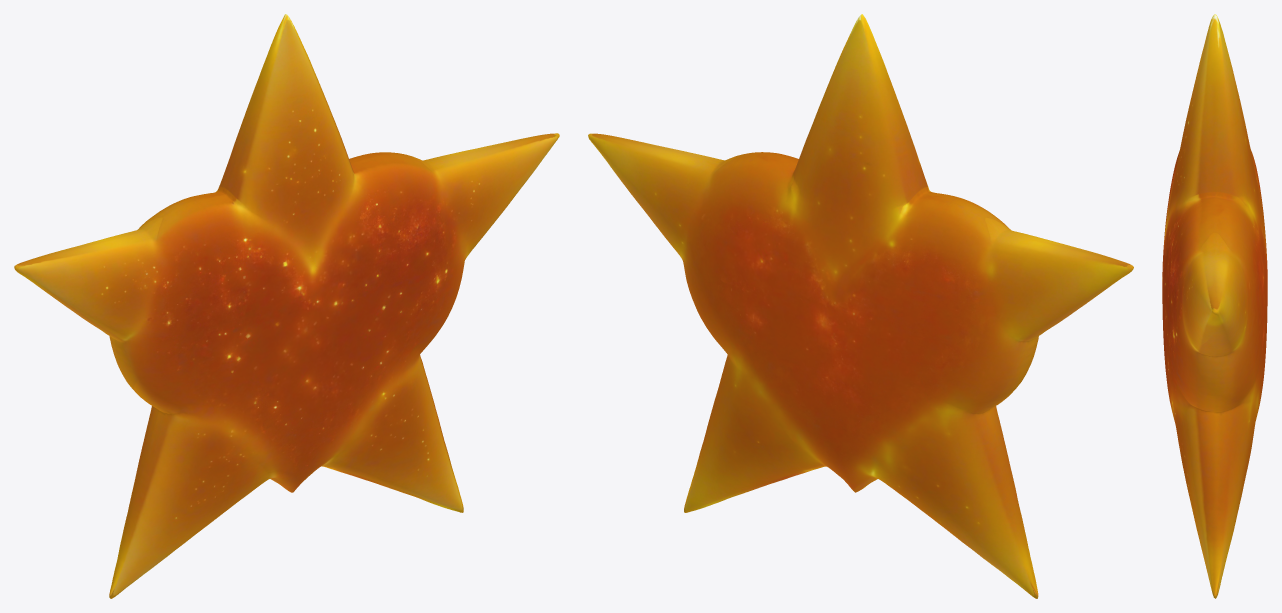
Rendered from Stellar Heart Glow 0604140148 texture (1).glb.
3 views of the same model, side by side, from view 1: azimuth 30°, elevation 25°; view 2: azimuth 150°, elevation 25°; view 3: azimuth 270°, elevation 25° (orthographic). The views are drawn at different scales.
Bounding box in the file's own units: 2 × 1.91 × 0.3605.
Materials: 1 (1 with a texture image).
